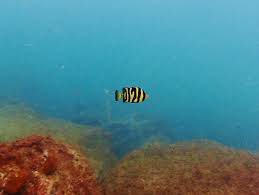azi: (112, 81, 148, 110)
